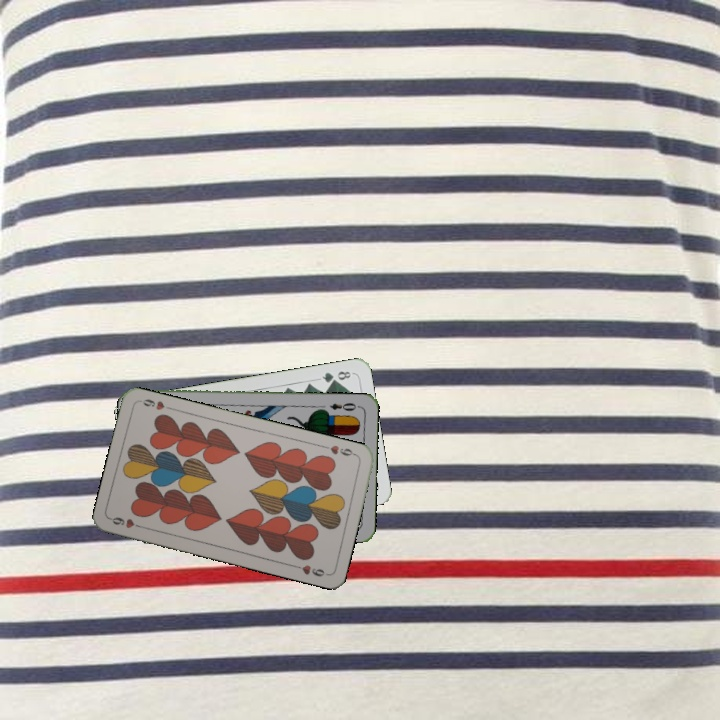EO: (326, 399, 362, 413)
G8: (318, 367, 355, 385)
H9: (319, 441, 359, 459), (107, 513, 147, 531)
